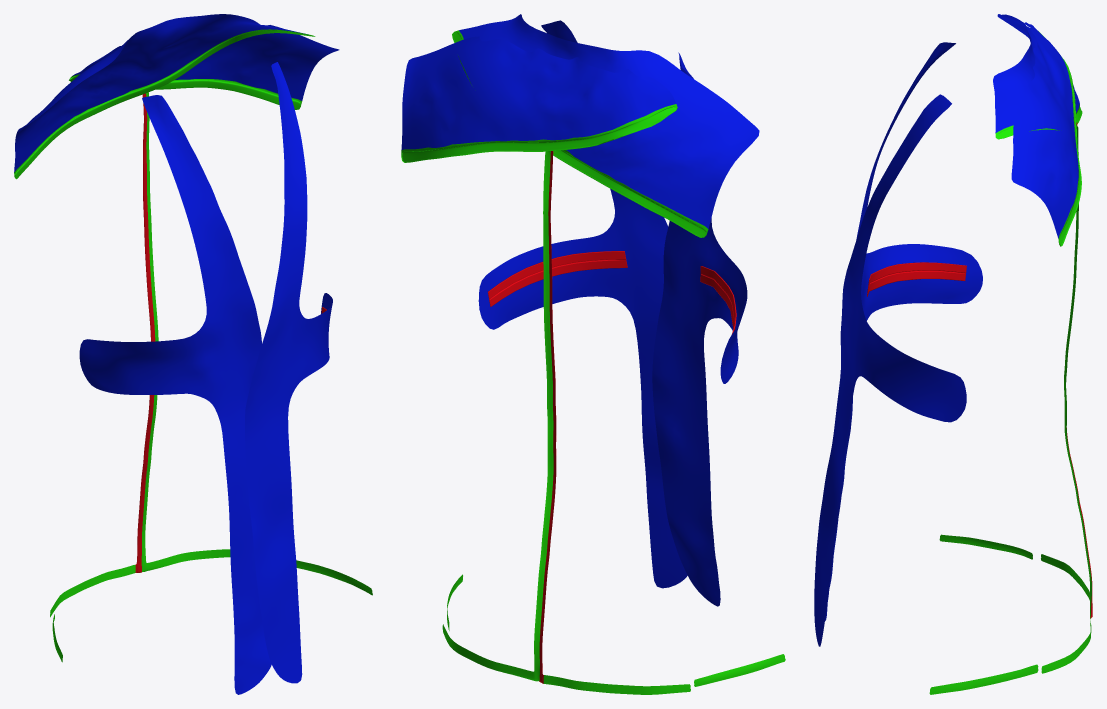
The model's file is unlined_side_vents.glb.
The picture shows the model from 3 angles, left to right: view 1: azimuth 30°, elevation 25°; view 2: azimuth 150°, elevation 25°; view 3: azimuth 270°, elevation 25°; orthographic projection. The views are drawn at different scales.
Parts seen in each view (by area): view 1: secondary_02, tertiary_02, primary_02; view 2: secondary_02, tertiary_02, primary_02; view 3: secondary_02, tertiary_02, primary_02.
Boxes of the visible parts, x1,y1,x2,y2 form: secondary_02: (14,14,339,694); tertiary_02: (14,29,372,662); primary_02: (135,93,326,572); secondary_02: (401,14,759,606); tertiary_02: (401,30,785,694); primary_02: (488,151,736,683); secondary_02: (814,14,1079,646); tertiary_02: (929,31,1091,694); primary_02: (867,122,1092,618).
Bounding box in the file's own units: 41.21 × 72.62 × 30.75.
